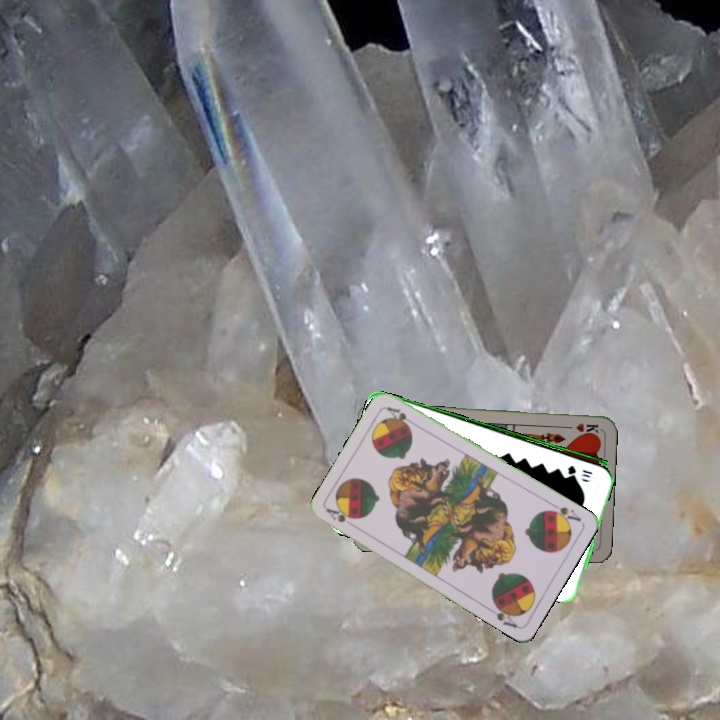G10: (563, 461, 595, 477)
HK: (561, 419, 601, 437)
SA: (543, 499, 584, 526), (323, 505, 360, 531)
